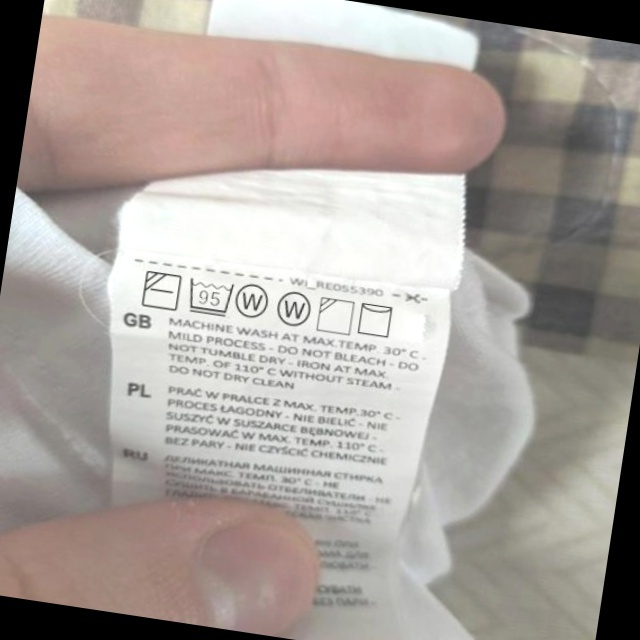95C: (184, 274, 237, 319)
dry_flat_in_shade: (139, 266, 184, 314)
line_dry: (354, 298, 398, 341)
shade_dry: (314, 294, 357, 338)
wet_clean: (233, 278, 274, 322), (274, 288, 315, 332)
